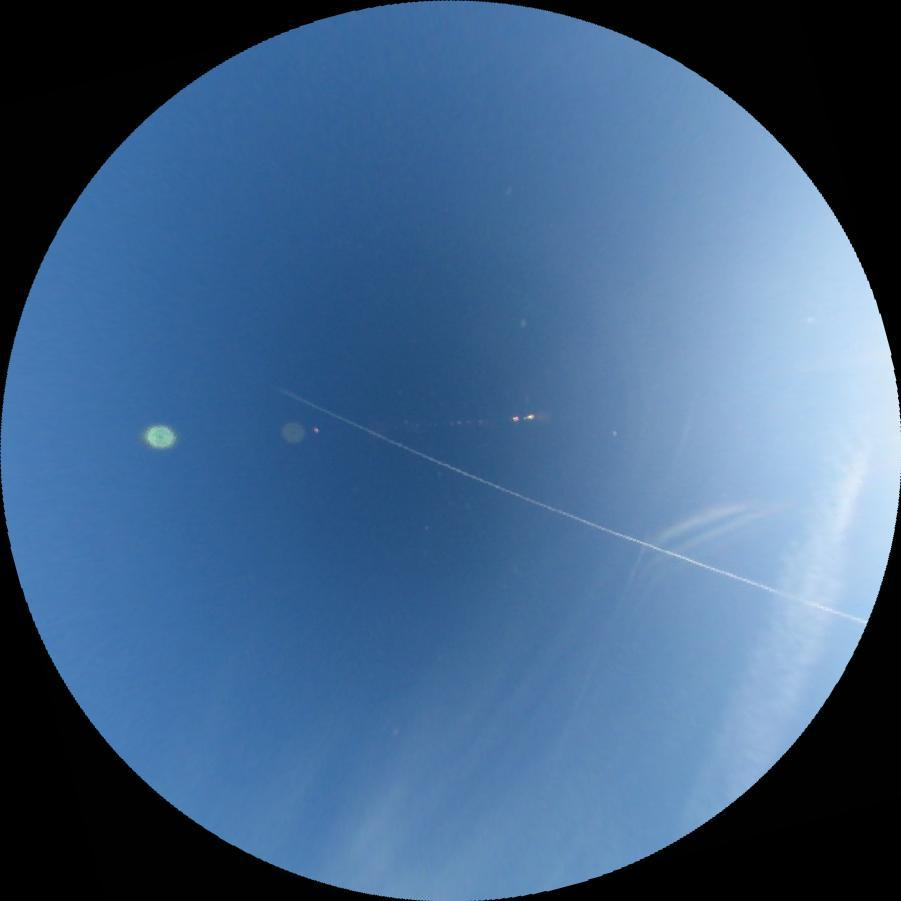contrail young: (273, 388, 868, 634), (573, 383, 705, 710)
parasite: (638, 492, 754, 556)
